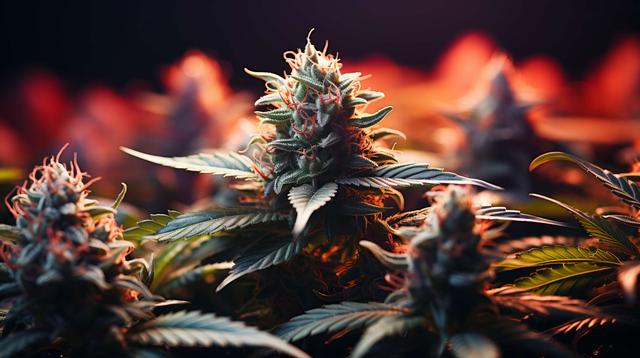Marijuana Plant: (36, 0, 631, 358)
